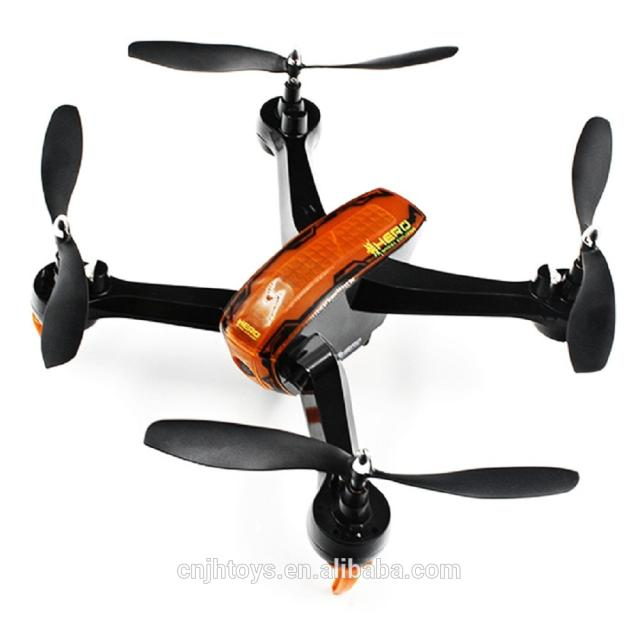drone: (14, 22, 633, 573)
